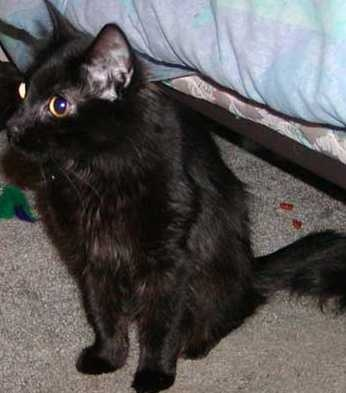Cat: (0, 0, 345, 388)
